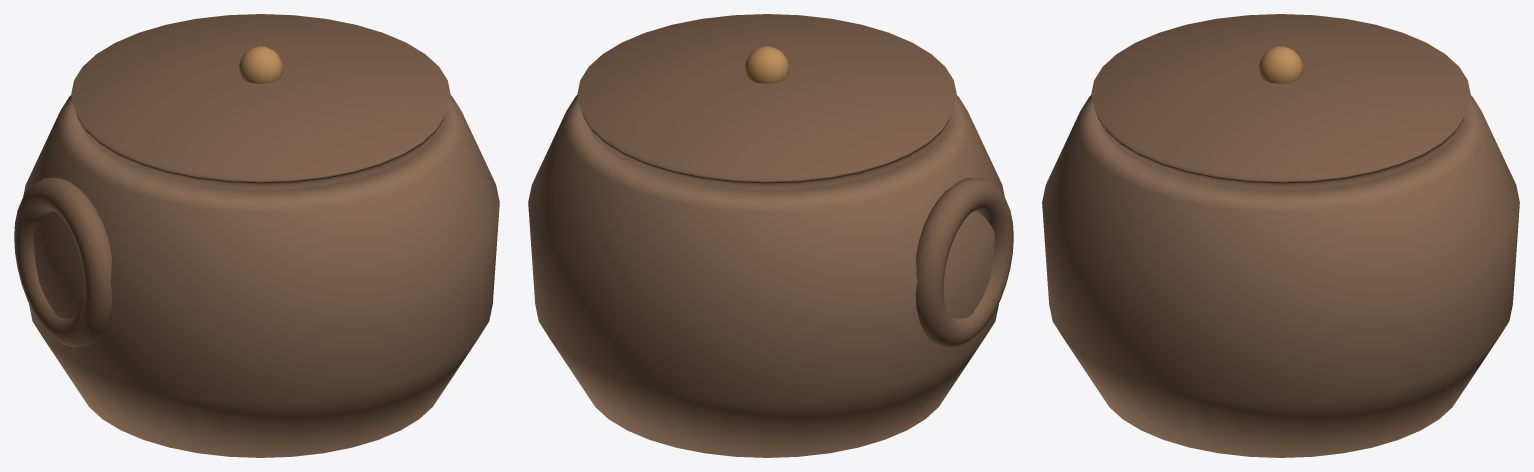
Rendered from huaiyang_tool_soup_pot.glb.
3 views of the same model, side by side, from view 1: azimuth 30°, elevation 25°; view 2: azimuth 150°, elevation 25°; view 3: azimuth 270°, elevation 25° (orthographic).
Bounding box in the file's own units: 0.342 × 0.261 × 0.34.
